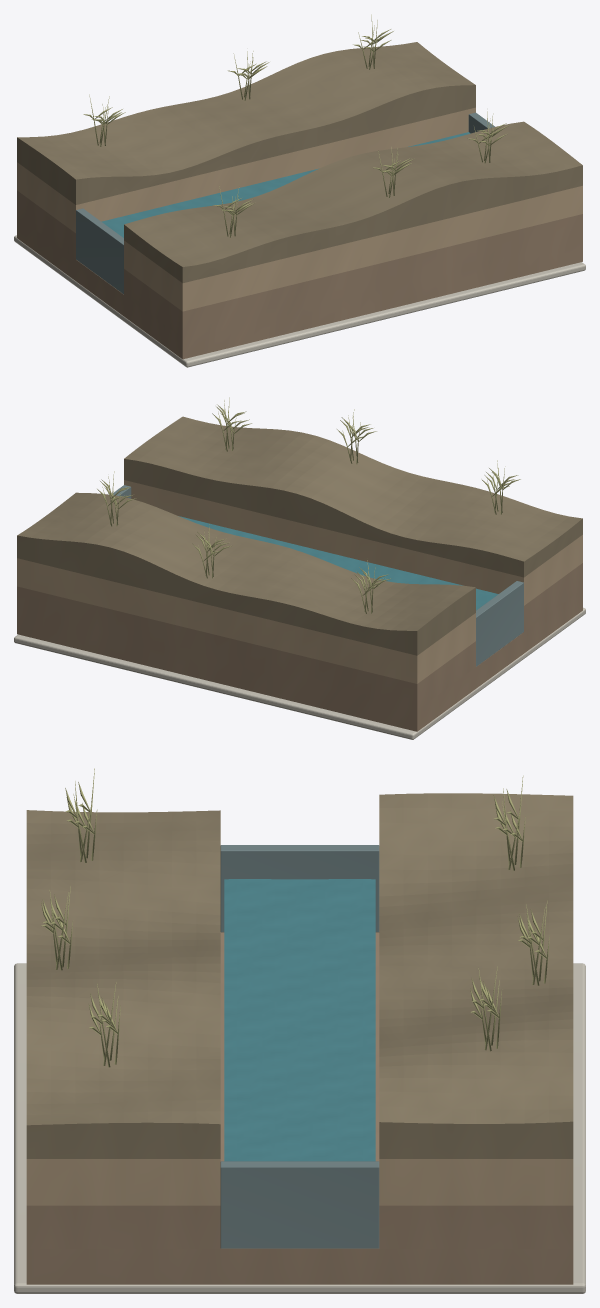
File: exile-waterbank.glb
3 renders of one model, top to bottom at view 1: azimuth 30°, elevation 25°; view 2: azimuth 150°, elevation 25°; view 3: azimuth 270°, elevation 25°, orthographic. The views are drawn at different scales.
Parts seen in each view (by area): view 1: exile-waterbank-exile-original-topsoil-section, exile-waterbank-exile-original-topsoil-section.001, exile-waterbank-exile-original-middle-soil-section.001, exile-waterbank-exile-original-lower-soil-section, exile-waterbank-exile-original-lower-soil-section.002, exile-waterbank-exile-original-middle-soil-section, exile-waterbank-exile-modern-warm-pale-fixture, exile-waterbank-exile-modern-slate-fixture, exile-waterbank-exile-generic-contained-water-volume, exile-waterbank-exile-original-lower-soil-section.001, exile-waterbank-exile-original-bank-plant.001, exile-waterbank-exile-original-bank-plant; view 2: exile-waterbank-exile-original-topsoil-section.001, exile-waterbank-exile-original-topsoil-section, exile-waterbank-exile-original-middle-soil-section, exile-waterbank-exile-original-lower-soil-section, exile-waterbank-exile-original-lower-soil-section.001, exile-waterbank-exile-original-middle-soil-section.001, exile-waterbank-exile-modern-warm-pale-fixture, exile-waterbank-exile-modern-slate-fixture, exile-waterbank-exile-generic-contained-water-volume, exile-waterbank-exile-original-lower-soil-section.002, exile-waterbank-exile-original-bank-plant.001, exile-waterbank-exile-original-bank-plant; view 3: exile-waterbank-exile-original-topsoil-section, exile-waterbank-exile-original-topsoil-section.001, exile-waterbank-exile-generic-contained-water-volume, exile-waterbank-exile-original-lower-soil-section, exile-waterbank-exile-modern-slate-fixture.001, exile-waterbank-exile-modern-warm-pale-fixture, exile-waterbank-exile-original-middle-soil-section, exile-waterbank-exile-original-middle-soil-section.001, exile-waterbank-exile-original-lower-soil-section.001, exile-waterbank-exile-original-lower-soil-section.002, exile-waterbank-exile-modern-slate-fixture, exile-waterbank-exile-original-bank-plant (+1 smaller).
Part boxes in pixels (left/top/right/bottom): exile-waterbank-exile-original-topsoil-section: left=17, top=42, right=475, bottom=204; exile-waterbank-exile-original-topsoil-section.001: left=124, top=121, right=582, bottom=283; exile-waterbank-exile-original-middle-soil-section.001: left=124, top=185, right=582, bottom=311; exile-waterbank-exile-original-lower-soil-section: left=17, top=217, right=582, bottom=359; exile-waterbank-exile-original-lower-soil-section.002: left=124, top=214, right=582, bottom=337; exile-waterbank-exile-original-middle-soil-section: left=17, top=107, right=475, bottom=232; exile-waterbank-exile-modern-warm-pale-fixture: left=14, top=235, right=585, bottom=367; exile-waterbank-exile-modern-slate-fixture: left=76, top=208, right=123, bottom=294; exile-waterbank-exile-generic-contained-water-volume: left=101, top=132, right=470, bottom=237; exile-waterbank-exile-original-lower-soil-section.001: left=17, top=190, right=75, bottom=259; exile-waterbank-exile-original-bank-plant.001: left=213, top=111, right=509, bottom=237; exile-waterbank-exile-original-bank-plant: left=83, top=14, right=393, bottom=146; exile-waterbank-exile-original-topsoil-section.001: left=124, top=416, right=582, bottom=577; exile-waterbank-exile-original-topsoil-section: left=17, top=492, right=475, bottom=655; exile-waterbank-exile-original-middle-soil-section: left=17, top=558, right=475, bottom=683; exile-waterbank-exile-original-lower-soil-section: left=17, top=589, right=582, bottom=731; exile-waterbank-exile-original-lower-soil-section.001: left=17, top=586, right=475, bottom=709; exile-waterbank-exile-original-middle-soil-section.001: left=124, top=480, right=582, bottom=605; exile-waterbank-exile-modern-warm-pale-fixture: left=14, top=607, right=585, bottom=739; exile-waterbank-exile-modern-slate-fixture: left=476, top=581, right=523, bottom=666; exile-waterbank-exile-generic-contained-water-volume: left=178, top=516, right=498, bottom=610; exile-waterbank-exile-original-lower-soil-section.002: left=524, top=563, right=582, bottom=631; exile-waterbank-exile-original-bank-plant.001: left=212, top=397, right=520, bottom=514; exile-waterbank-exile-original-bank-plant: left=97, top=471, right=390, bottom=613; exile-waterbank-exile-original-topsoil-section: left=379, top=793, right=573, bottom=1158; exile-waterbank-exile-original-topsoil-section.001: left=26, top=810, right=220, bottom=1158; exile-waterbank-exile-generic-contained-water-volume: left=224, top=879, right=375, bottom=1161; exile-waterbank-exile-original-lower-soil-section: left=26, top=932, right=573, bottom=1284; exile-waterbank-exile-modern-slate-fixture.001: left=220, top=1161, right=379, bottom=1248; exile-waterbank-exile-modern-warm-pale-fixture: left=14, top=963, right=585, bottom=1293; exile-waterbank-exile-original-middle-soil-section: left=379, top=1159, right=573, bottom=1205; exile-waterbank-exile-original-middle-soil-section.001: left=26, top=1159, right=220, bottom=1205; exile-waterbank-exile-original-lower-soil-section.001: left=379, top=1205, right=573, bottom=1248; exile-waterbank-exile-original-lower-soil-section.002: left=26, top=1205, right=220, bottom=1248; exile-waterbank-exile-modern-slate-fixture: left=220, top=845, right=379, bottom=932; exile-waterbank-exile-original-bank-plant: left=470, top=775, right=549, bottom=1051.
Size of the model in its own units: 1.2 by 0.4754 by 0.9.
